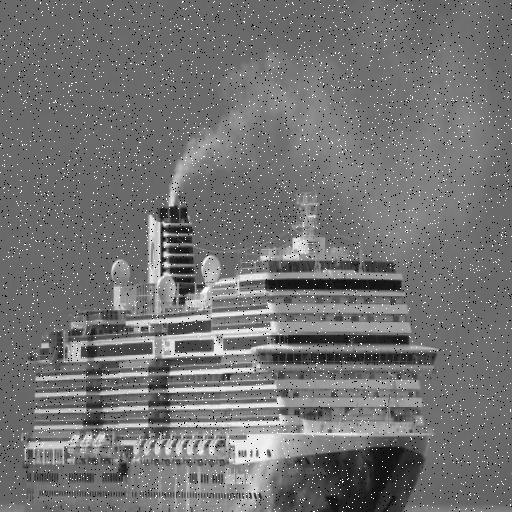cruises: (17, 178, 443, 512)
